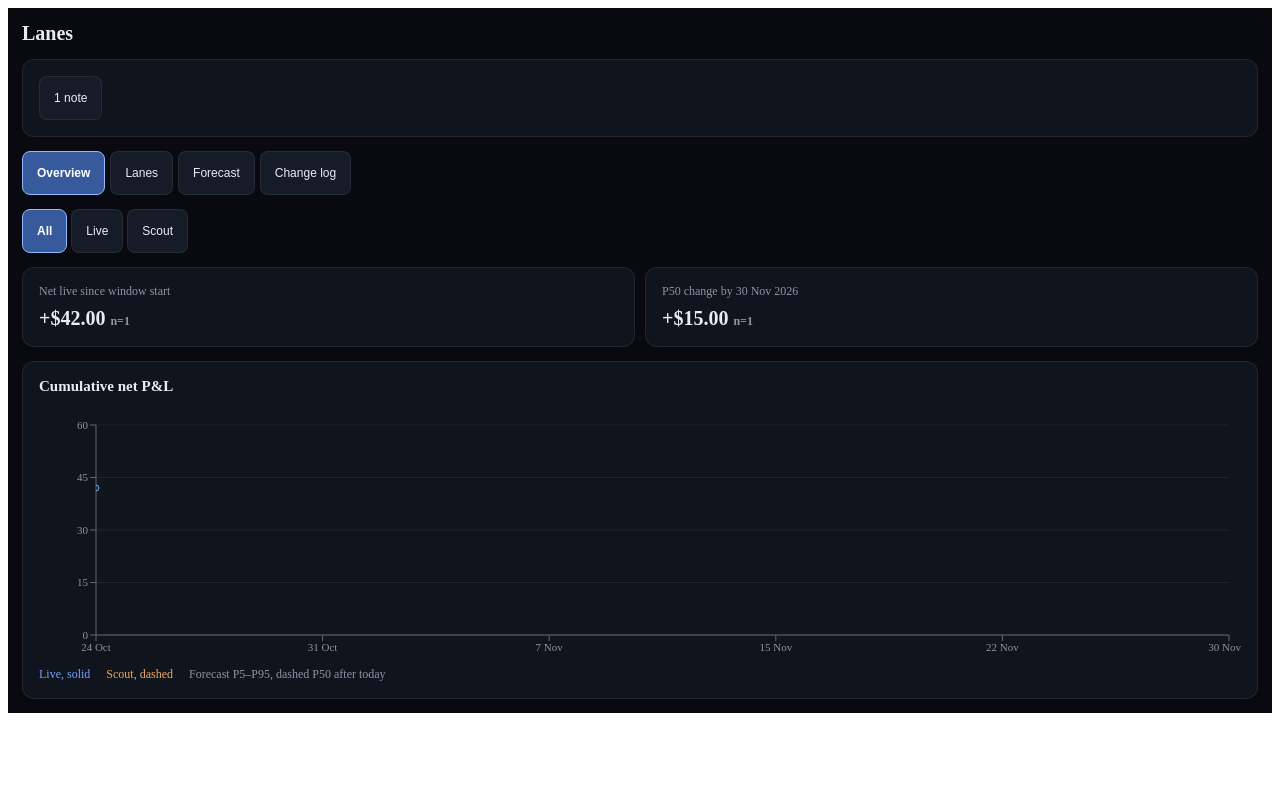
LanePerformanceView › shows the migration notice when marker storage is absent
This screenshot has width=1280, height=800.
Click the button "Change log": [306, 173] box [260, 151, 351, 195]
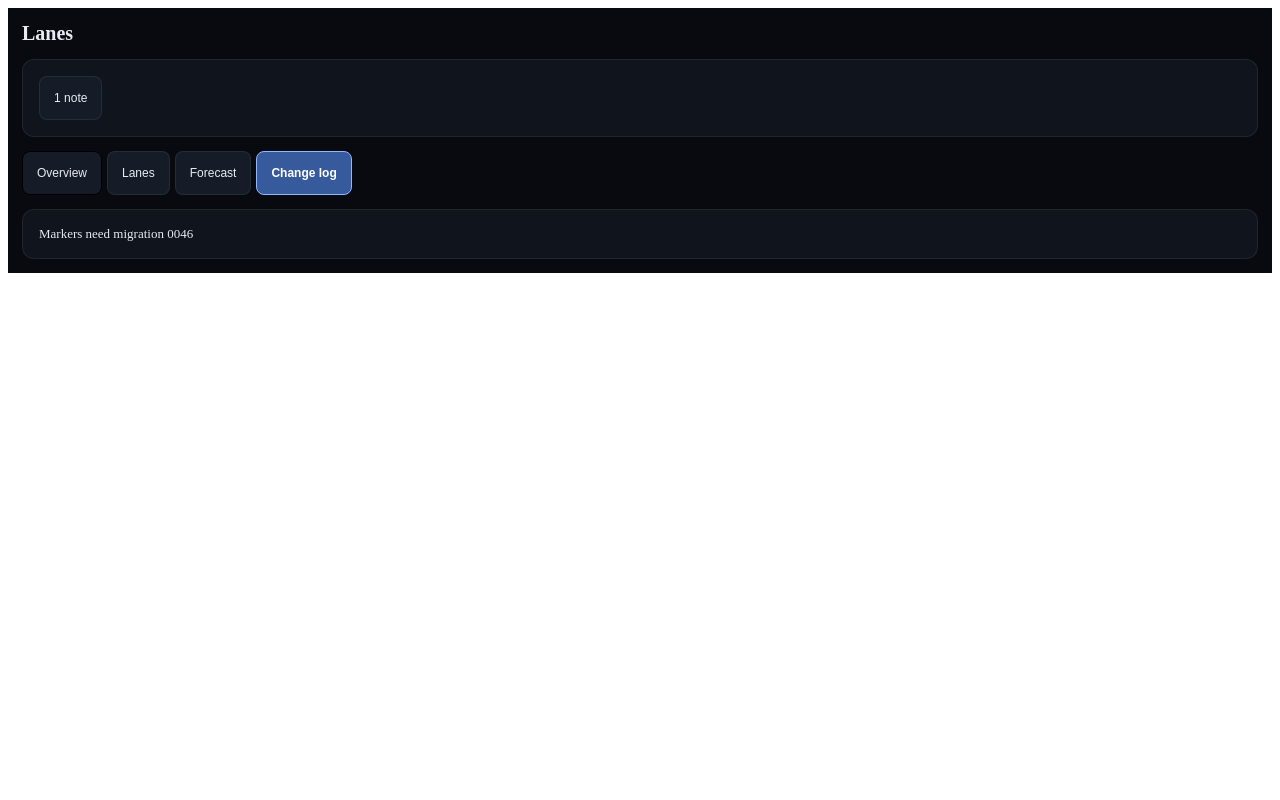
Expected: the text "Markers need migration 0046" is shown, [22, 209, 1258, 259]
